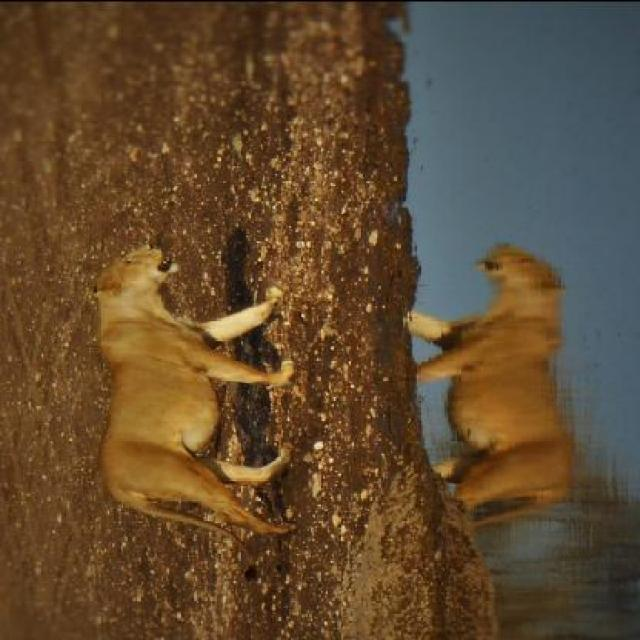Lion: (79, 237, 312, 588)
